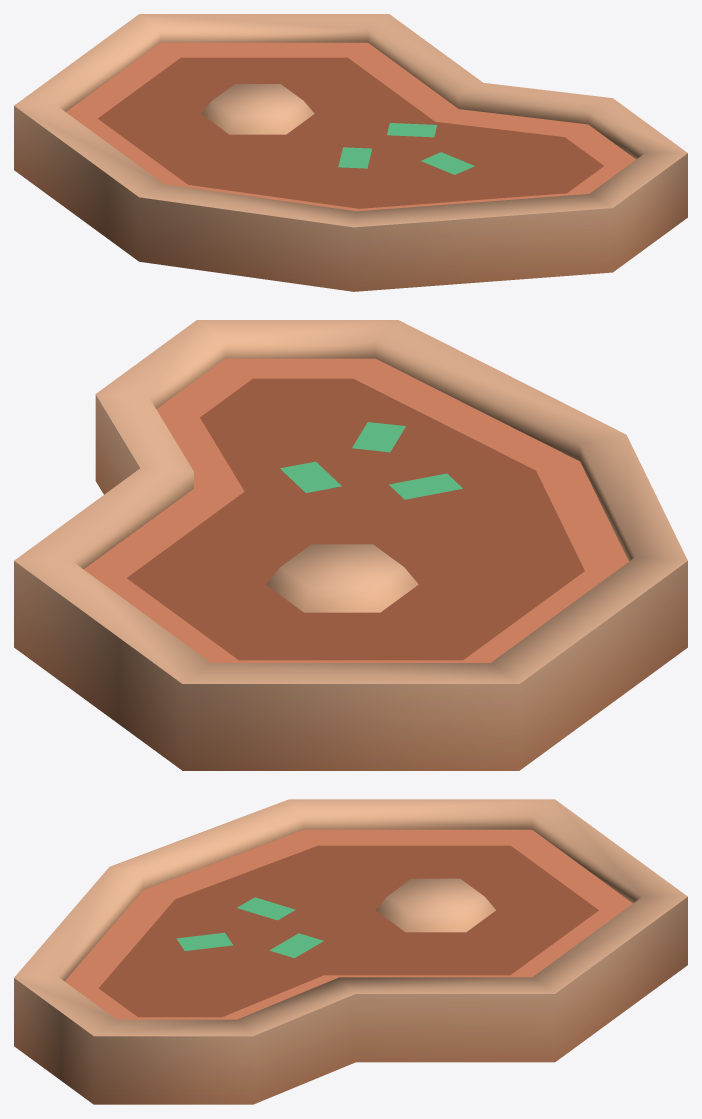
Rendered from meat-cooked.glb.
3 views of the same model, one above another, from view 1: azimuth 30°, elevation 25°; view 2: azimuth 150°, elevation 25°; view 3: azimuth 270°, elevation 25° (orthographic). The views are drawn at different scales.
Visible parts, largest first — view 1: meat-cooked; view 2: meat-cooked; view 3: meat-cooked.
Boxes of the visible parts, <box> form: meat-cooked: <box>14,14,687,291</box>; meat-cooked: <box>14,320,687,770</box>; meat-cooked: <box>14,799,687,1104</box>.
Bounding box in the file's own units: 0.4785 × 0.0645 × 0.5754.
1 material, 1 textured.
